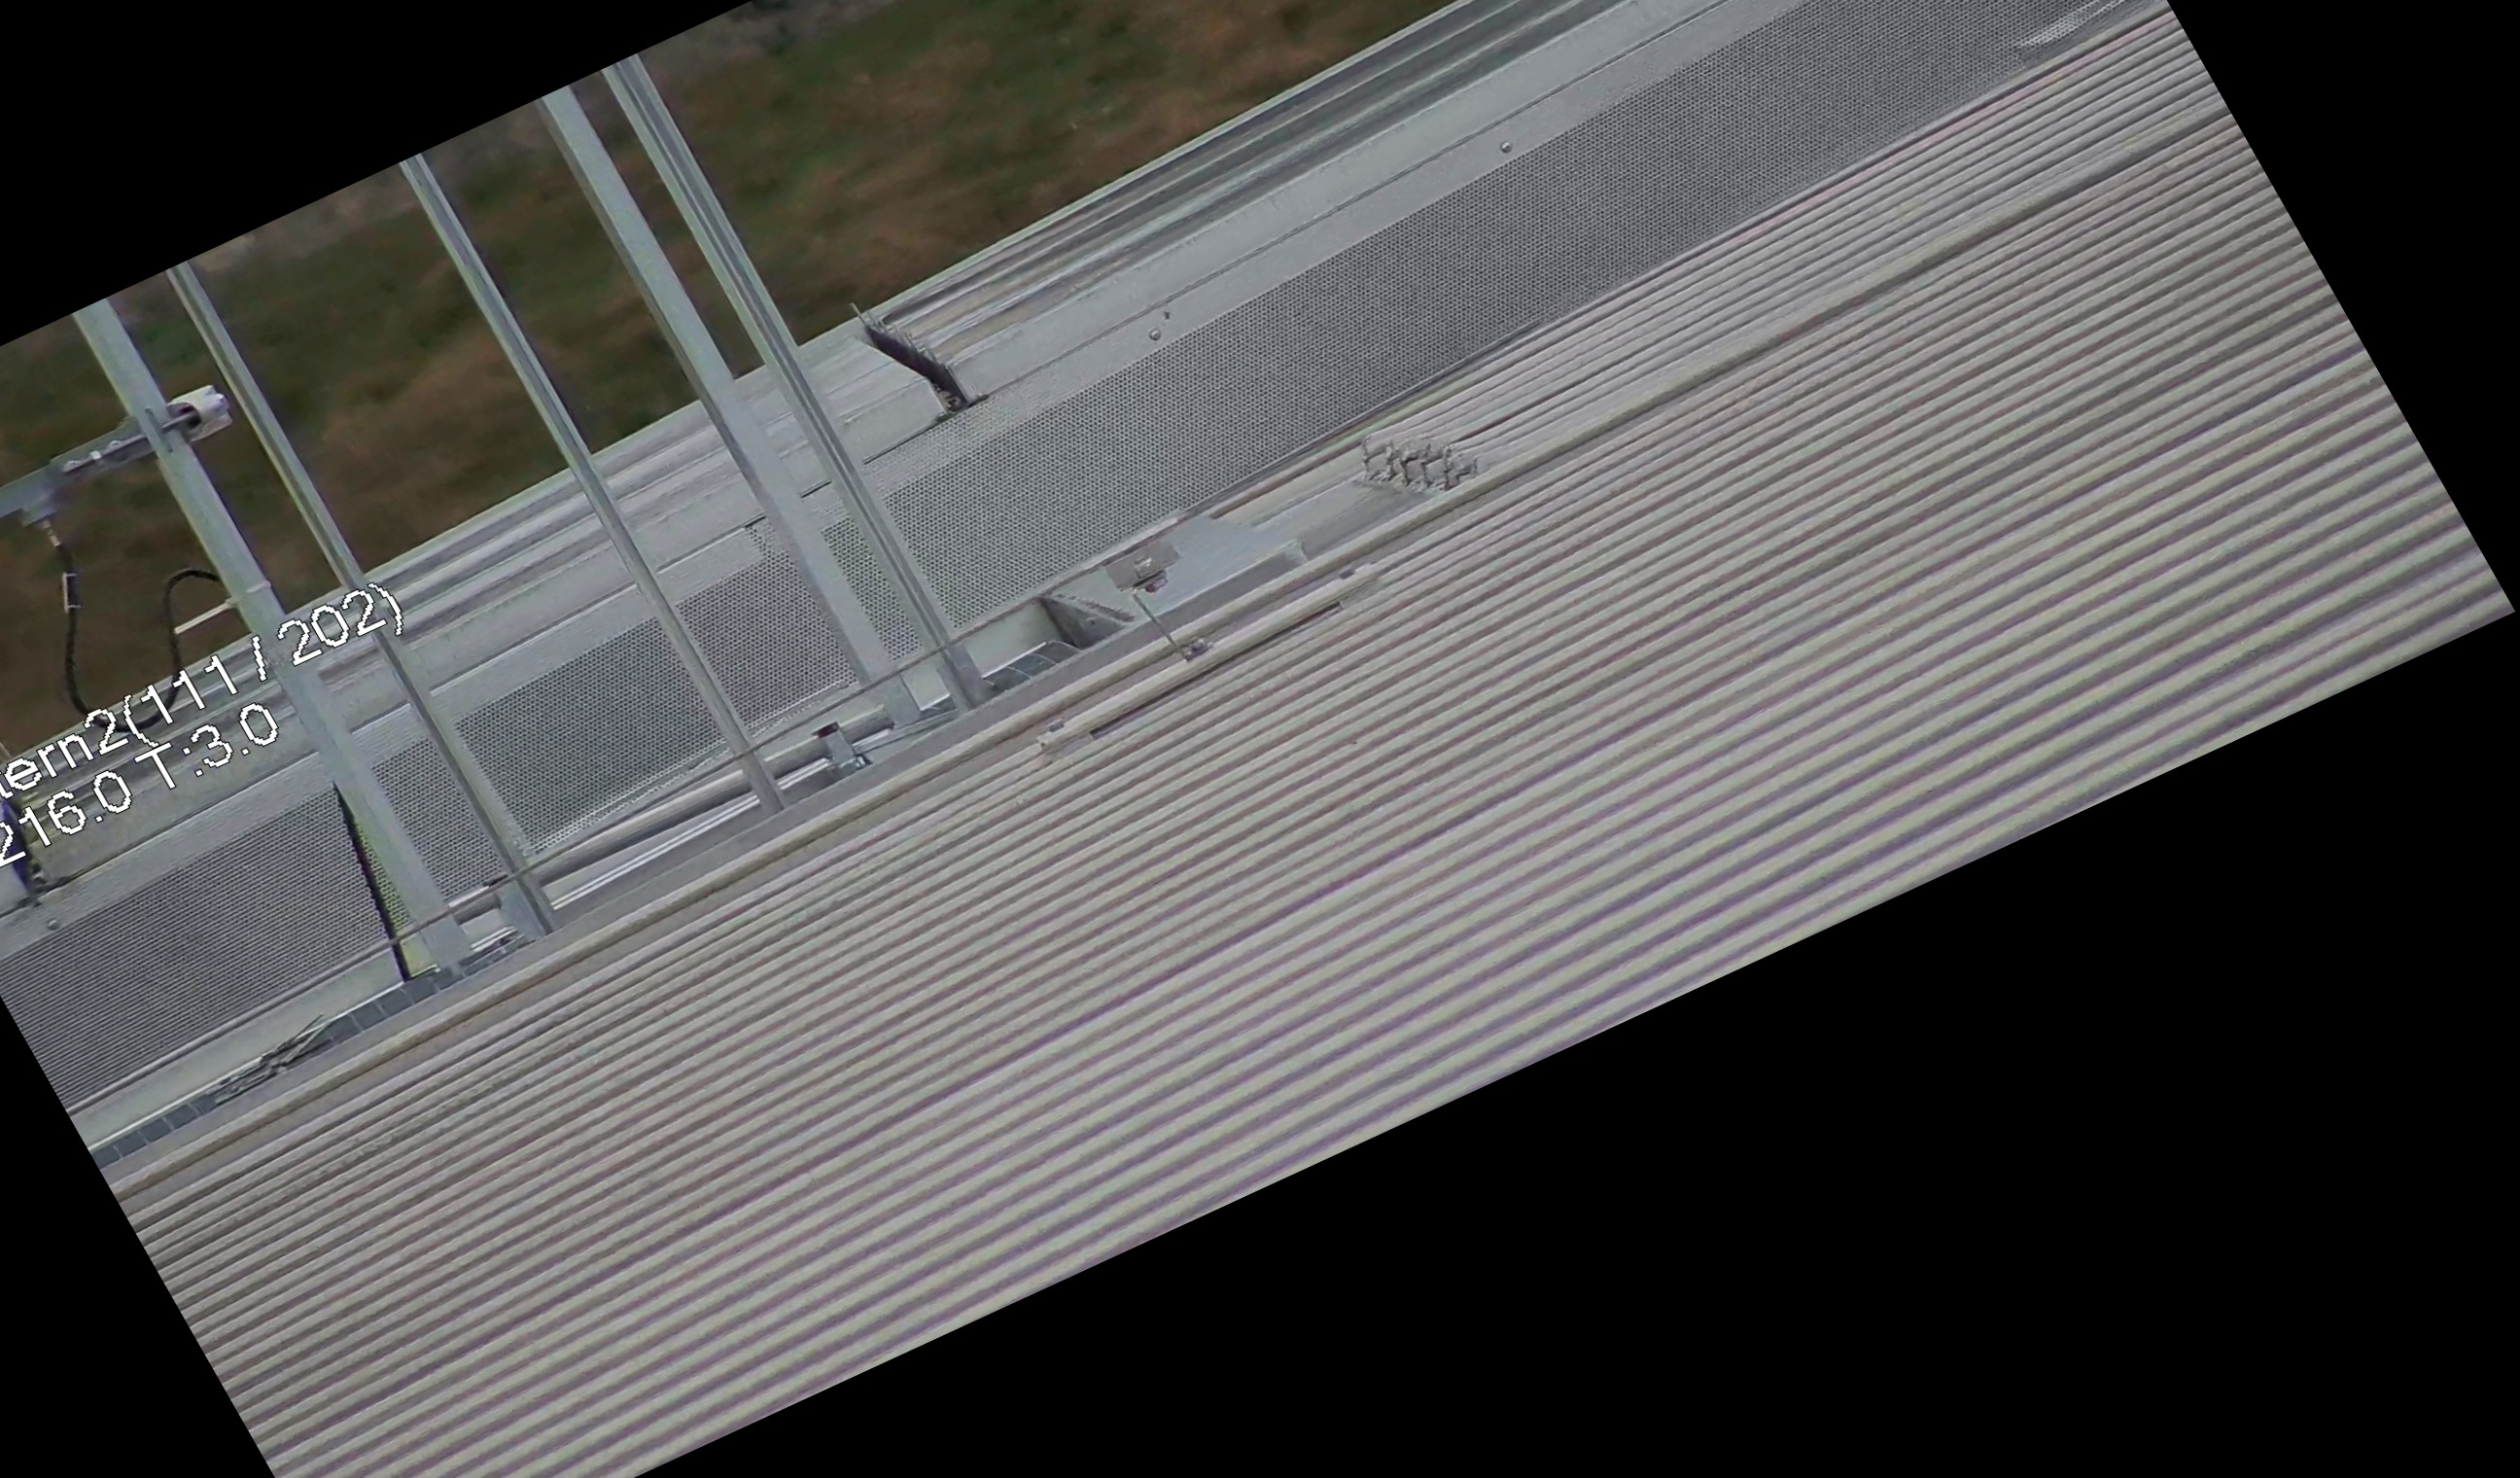Other: (825, 276, 997, 450)
